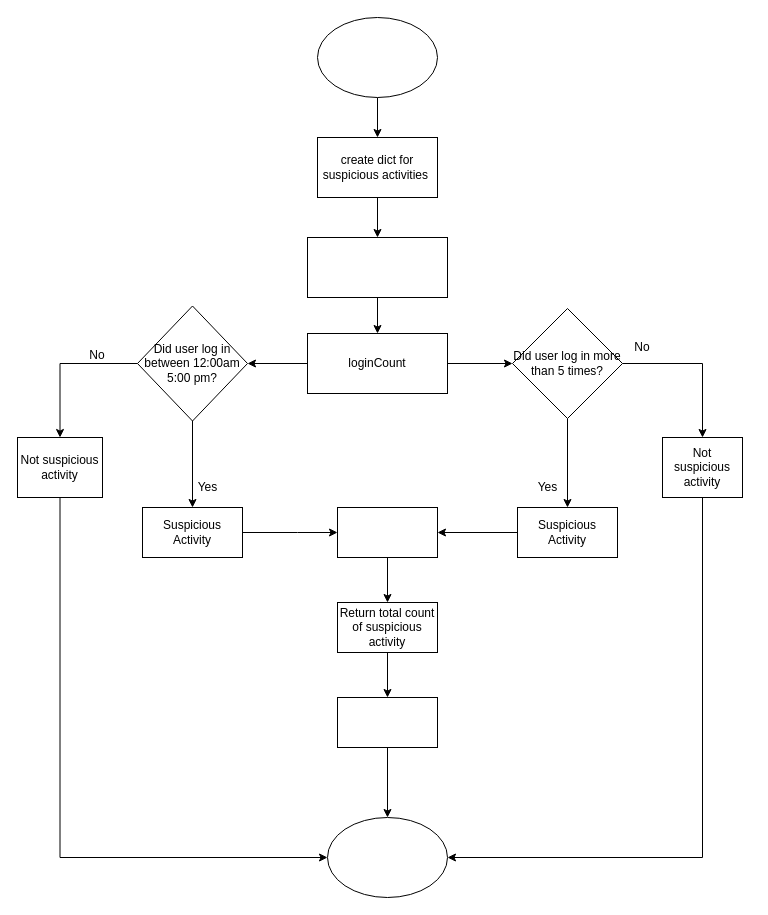
The diagram is 768 pixels wide and 915 high, and some of its shapes have lost their labels. Here are the shapes that lost their labels. From the top down, the centre of each, then its label:
At (x=377, y=57): "Start".
At (x=377, y=267): "sus count = 0".
At (x=387, y=532): "Suspicious Activity = 1".
At (x=387, y=722): "append total count".
At (x=387, y=857): "Stop".
